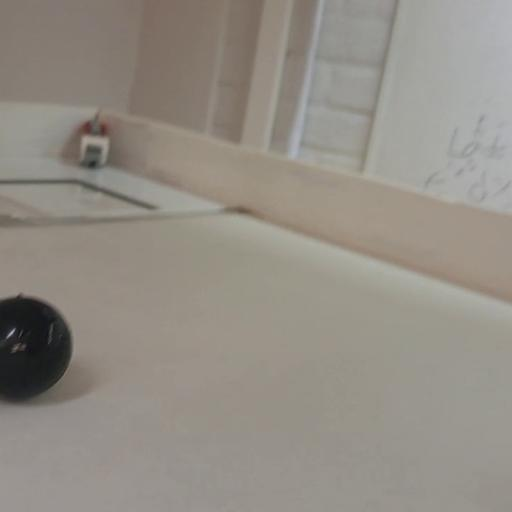dead: (0, 291, 75, 399)
